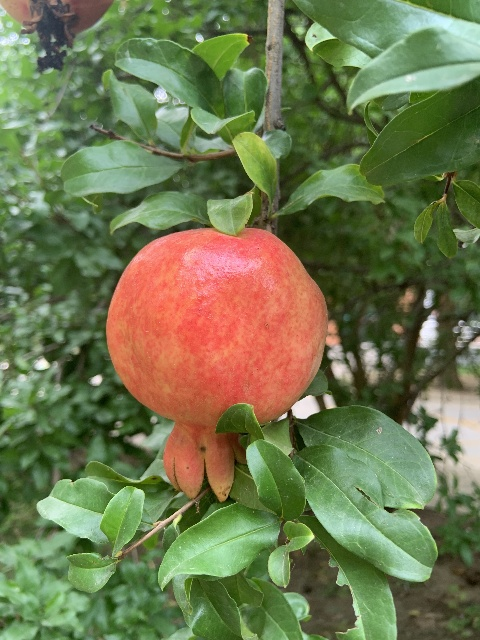ripe: (106, 225, 326, 503), (2, 0, 127, 48)
